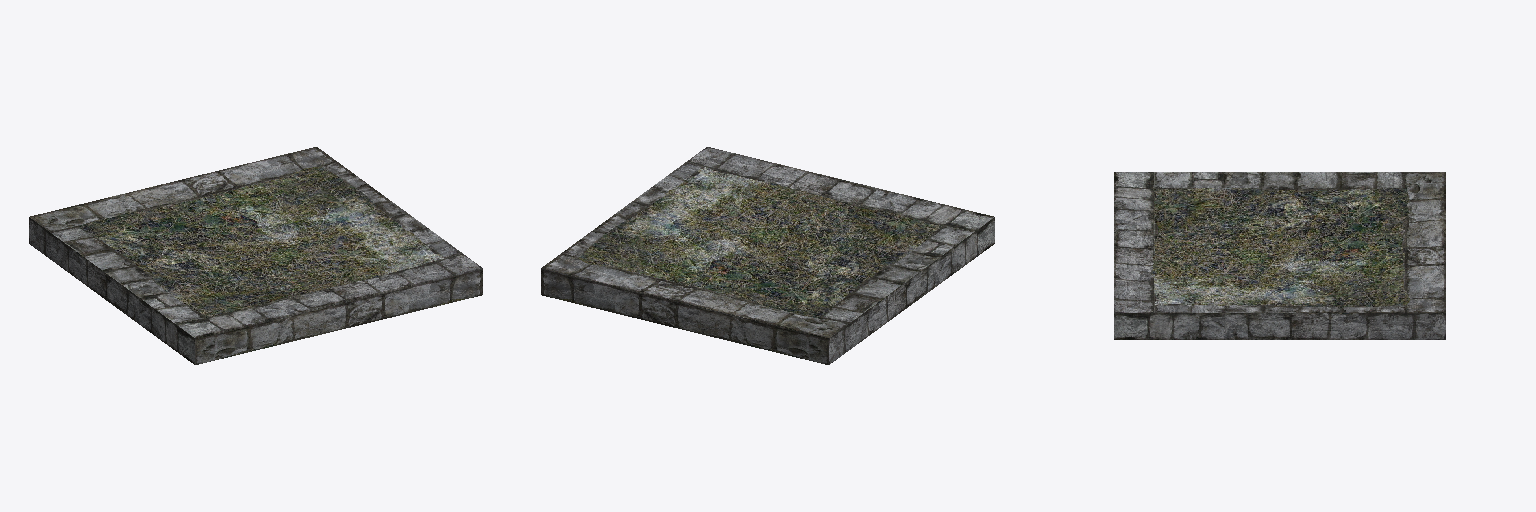
3 renders of one model, left to right at view 1: azimuth 30°, elevation 25°; view 2: azimuth 150°, elevation 25°; view 3: azimuth 270°, elevation 25°, orthographic.
Parts seen in each view (by area): view 1: treeHole_1_v4; view 2: treeHole_1_v4; view 3: treeHole_1_v4.
Boxes of the visible parts, x1=… form: treeHole_1_v4: x1=29, y1=147, x2=482, y2=364; treeHole_1_v4: x1=541, y1=147, x2=994, y2=364; treeHole_1_v4: x1=1114, y1=172, x2=1445, y2=339.
Size of the model in its own units: 0.8 by 0.0715 by 0.8.
Materials: 1 (1 with a texture image).